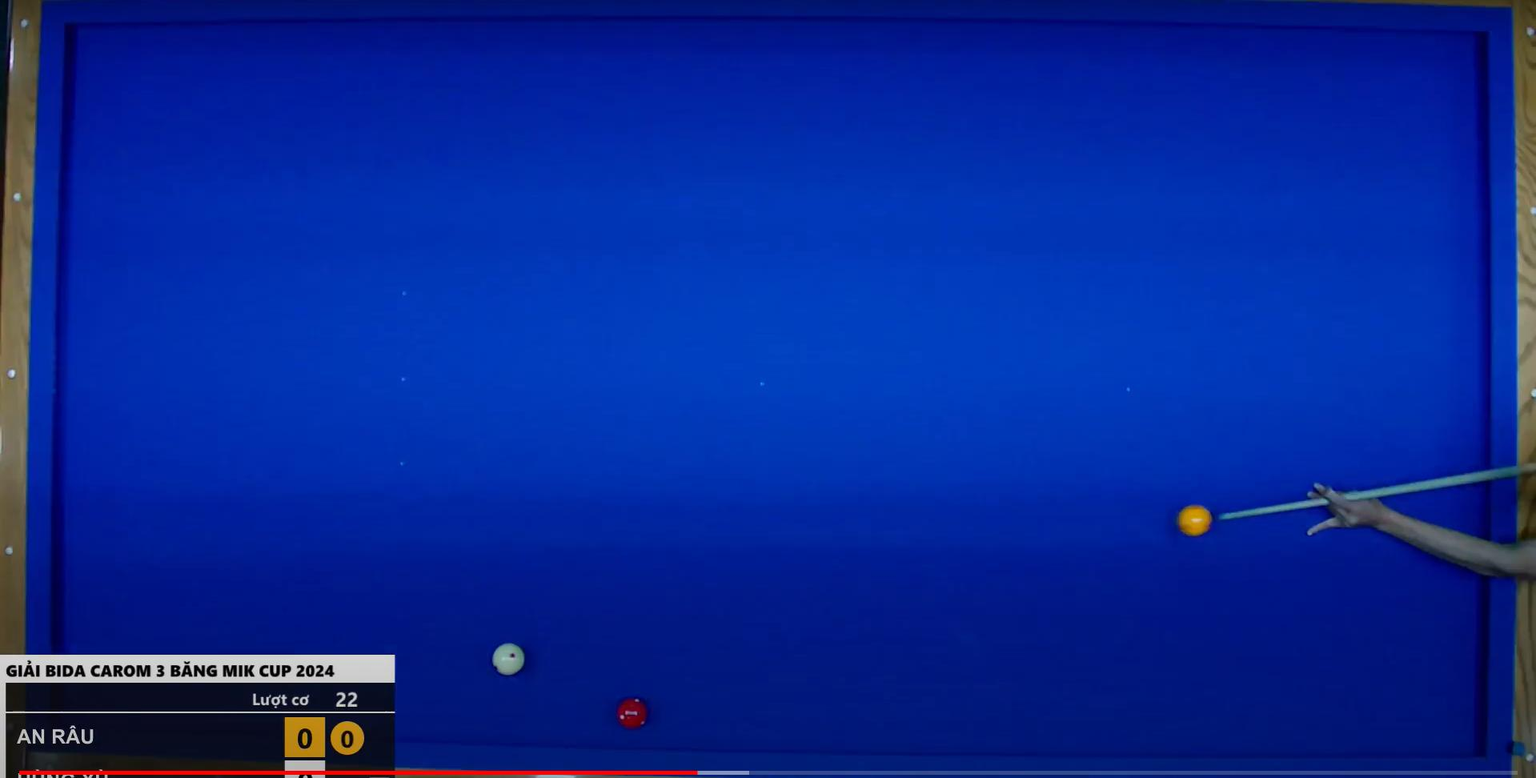red ball: (611, 687, 653, 740)
white ball: (484, 634, 535, 683)
yellow ball: (1170, 496, 1219, 550)
